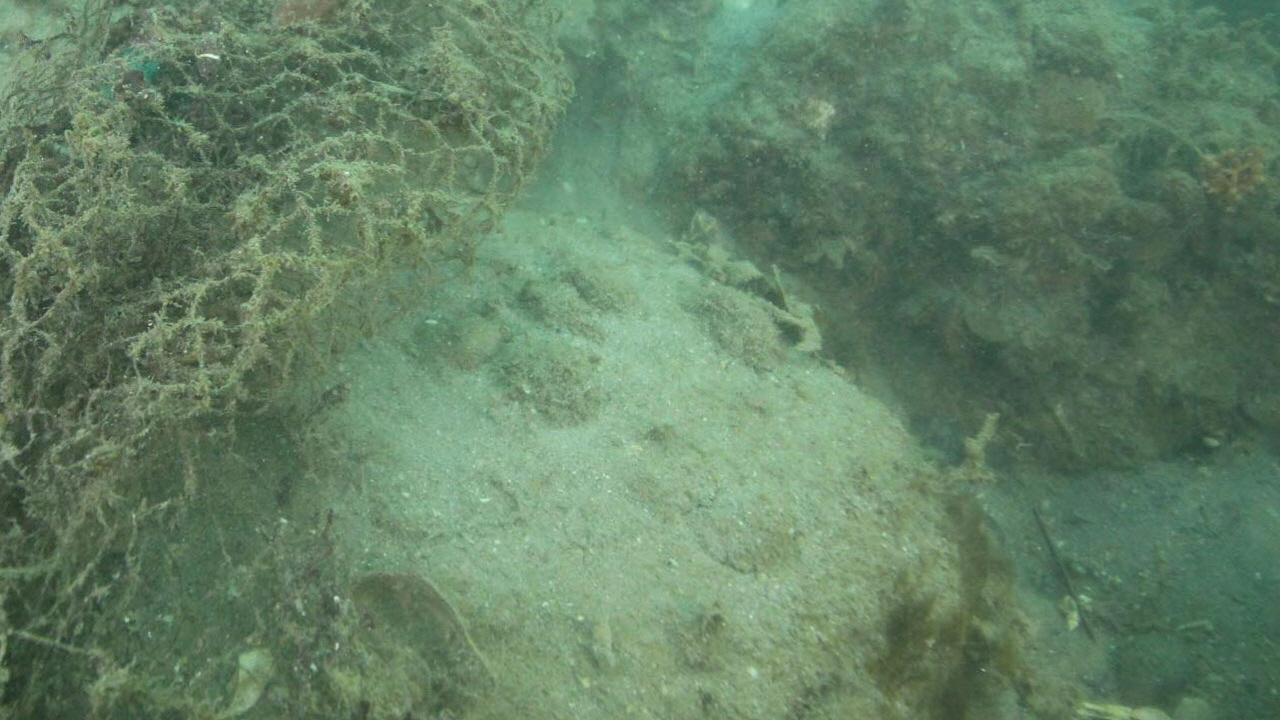fish net: (0, 0, 576, 633)
